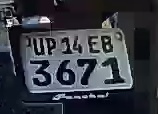1: (99, 56, 127, 86), (58, 37, 73, 55)
3: (27, 58, 55, 89)
4: (71, 36, 84, 55)
6: (54, 59, 79, 86)
7: (74, 56, 101, 87)
B: (98, 30, 115, 56)
E: (86, 32, 100, 55)
P: (44, 35, 57, 57)
U: (33, 36, 47, 56)
